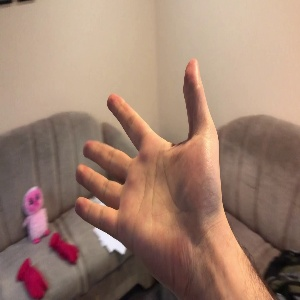hand: (76, 58, 222, 276)
